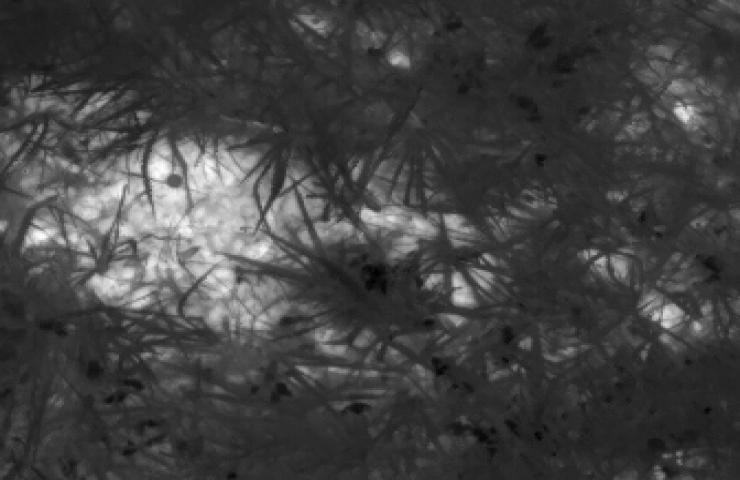landmines: (30, 86, 336, 340)
